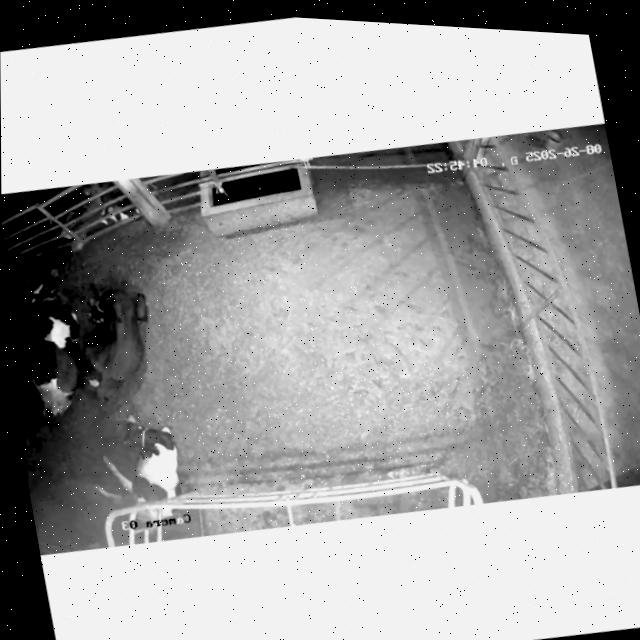lay: (64, 265, 180, 421), (83, 398, 209, 531), (2, 269, 90, 431)
